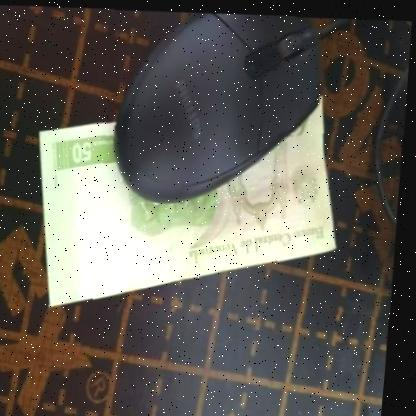fifty-back-vef: (26, 78, 352, 318)
